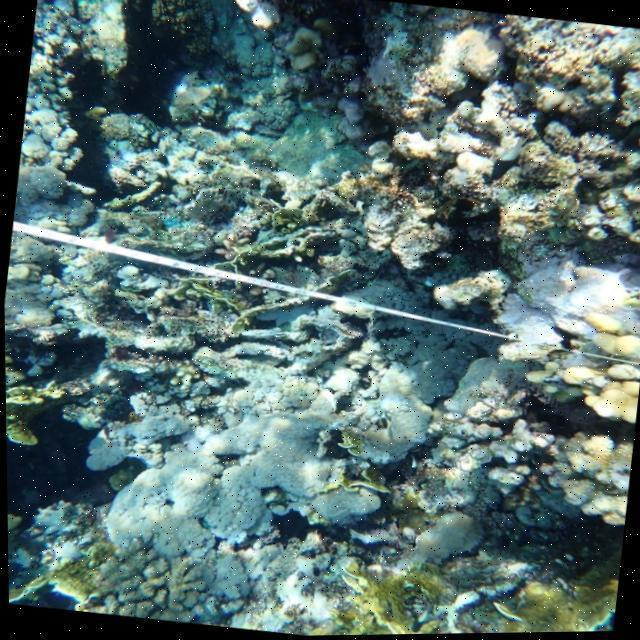Bleached Coral: (493, 248, 640, 374)
